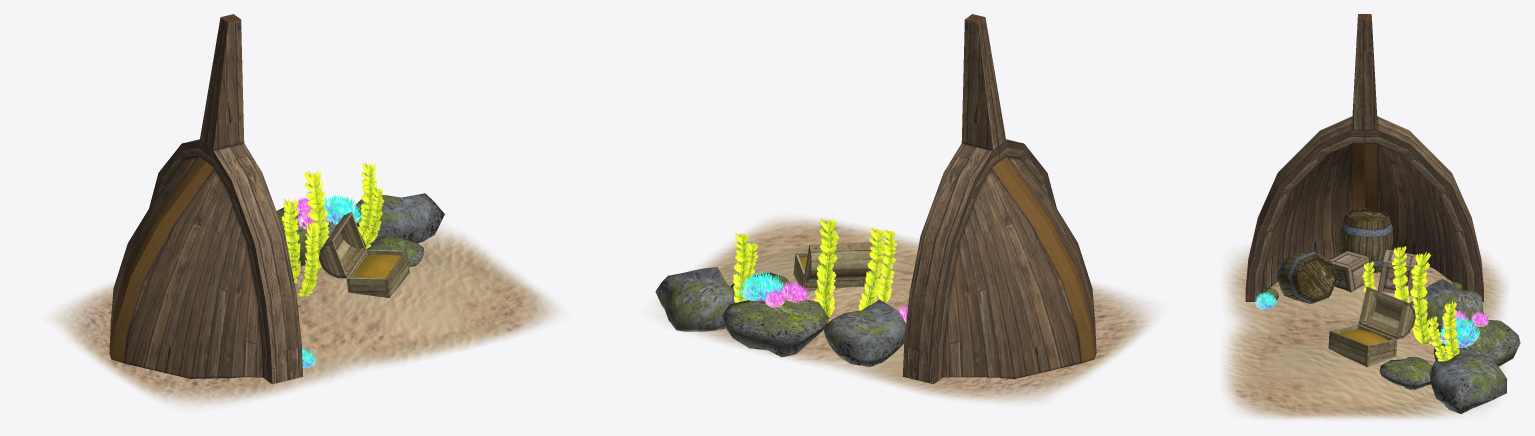
Rendered from shipwreck.glb.
The picture shows the model from 3 angles, left to right: view 1: azimuth 30°, elevation 25°; view 2: azimuth 150°, elevation 25°; view 3: azimuth 270°, elevation 25°; orthographic projection. The views are drawn at different scales.
Parts seen in each view (by area): view 1: Object_3.002, Object_2.003, Object_4.002; view 2: Object_3.002, Object_4.002, Object_2.003; view 3: Object_3.002, Object_2.003, Object_4.002.
Part boxes in pixels (<box>): Object_3.002: <box>109,14,409,384</box>; Object_2.003: <box>51,227,559,406</box>; Object_4.002: <box>276,162,444,368</box>; Object_3.002: <box>793,14,1096,384</box>; Object_4.002: <box>655,218,908,366</box>; Object_2.003: <box>658,217,1155,402</box>; Object_3.002: <box>1245,14,1483,367</box>; Object_2.003: <box>1223,247,1507,419</box>; Object_4.002: <box>1254,208,1520,413</box>.
Size of the model in its own units: 25 by 18.47 by 17.32.
3 materials, 3 textured.
